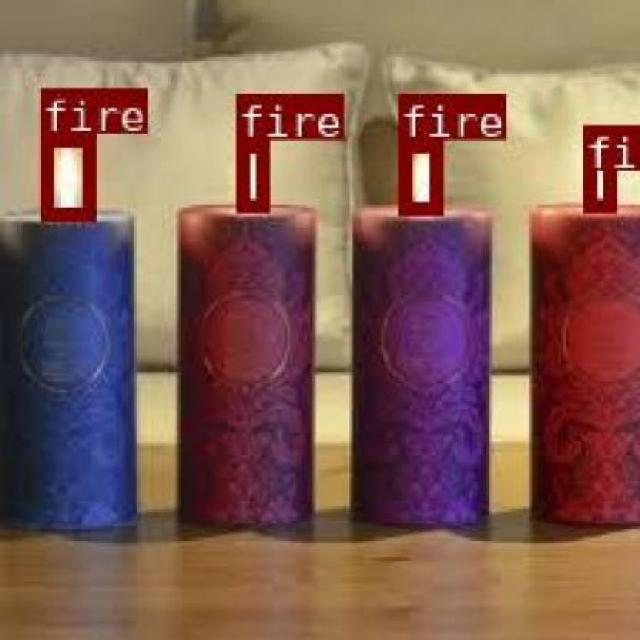Fire: (38, 132, 92, 218), (396, 138, 438, 214), (580, 122, 614, 208), (234, 138, 266, 208)
